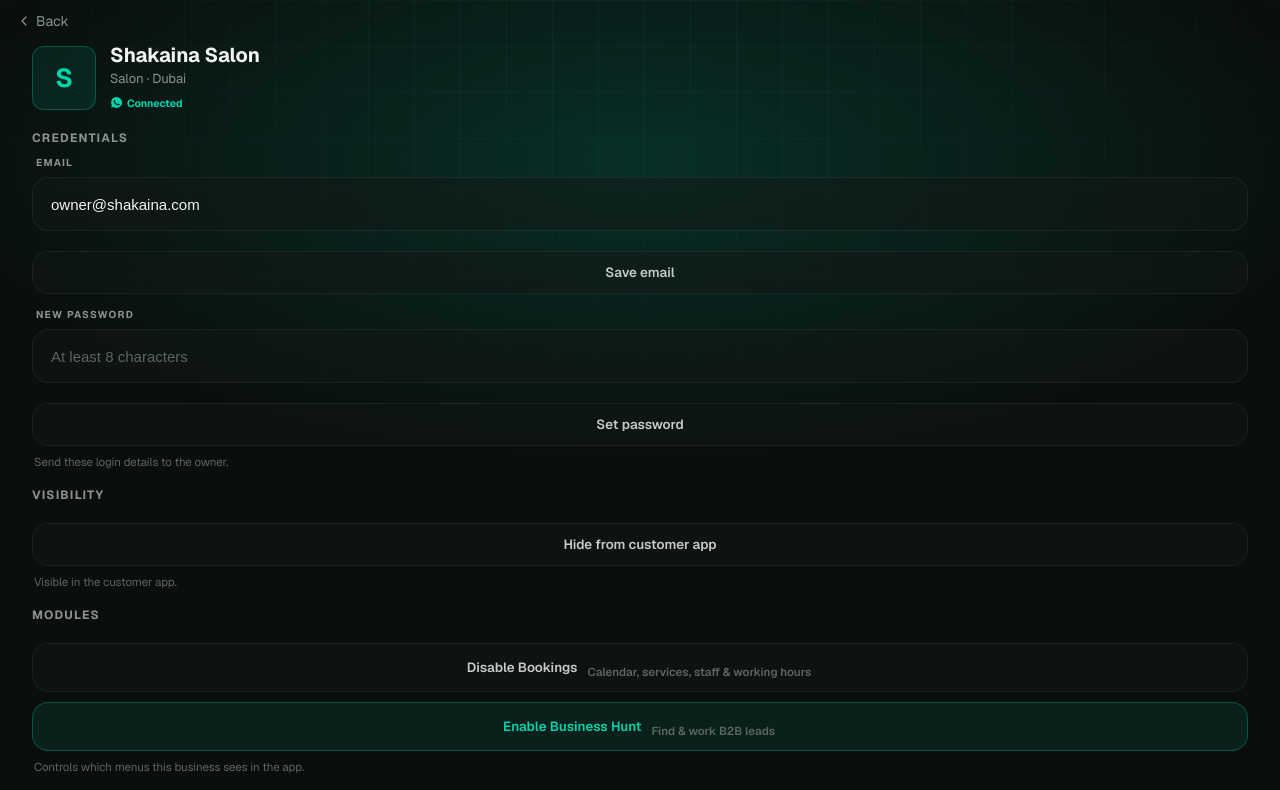
it: MasterShopDetail › sets a new password and shows it once for copying
In the field labelled "New password": {"x": 640, "y": 356} [49,330,1231,382], type "brand-new-pass"
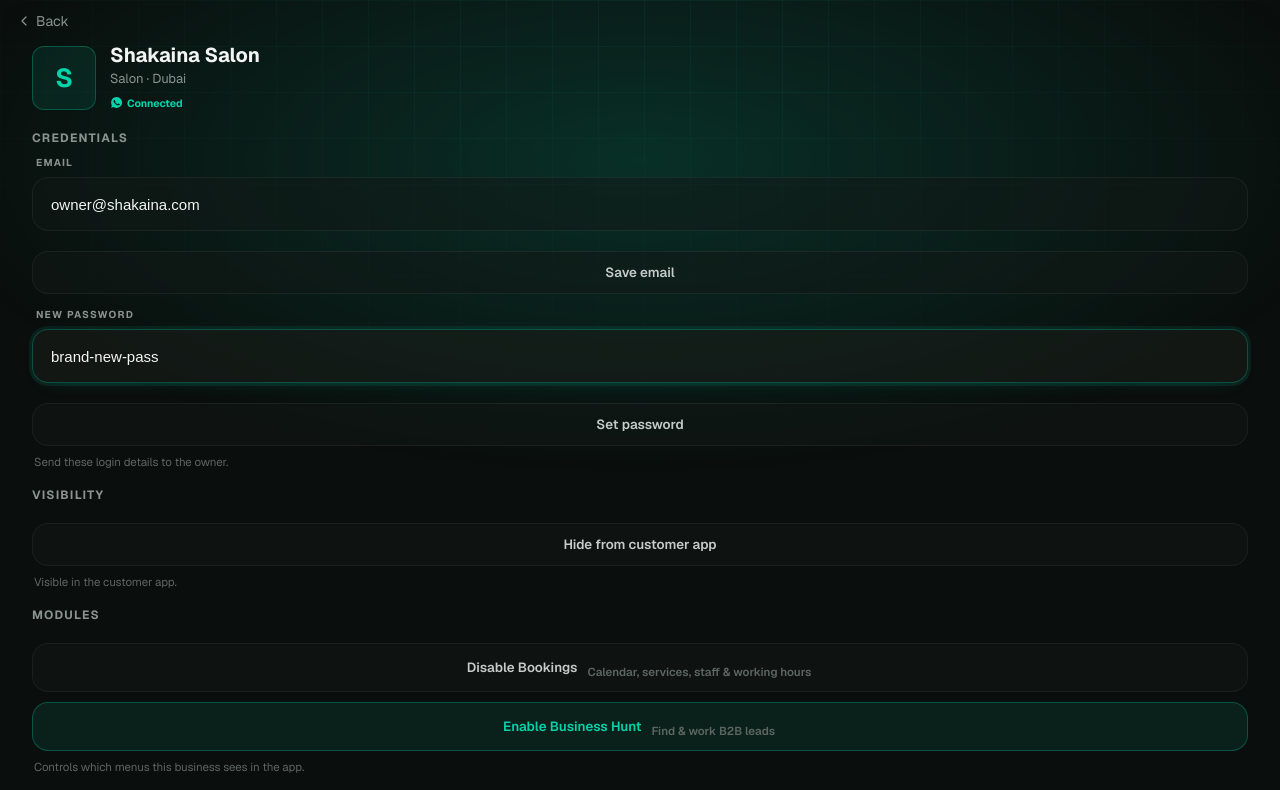
Click the button "Set password": {"x": 640, "y": 424} [32,403,1248,446]
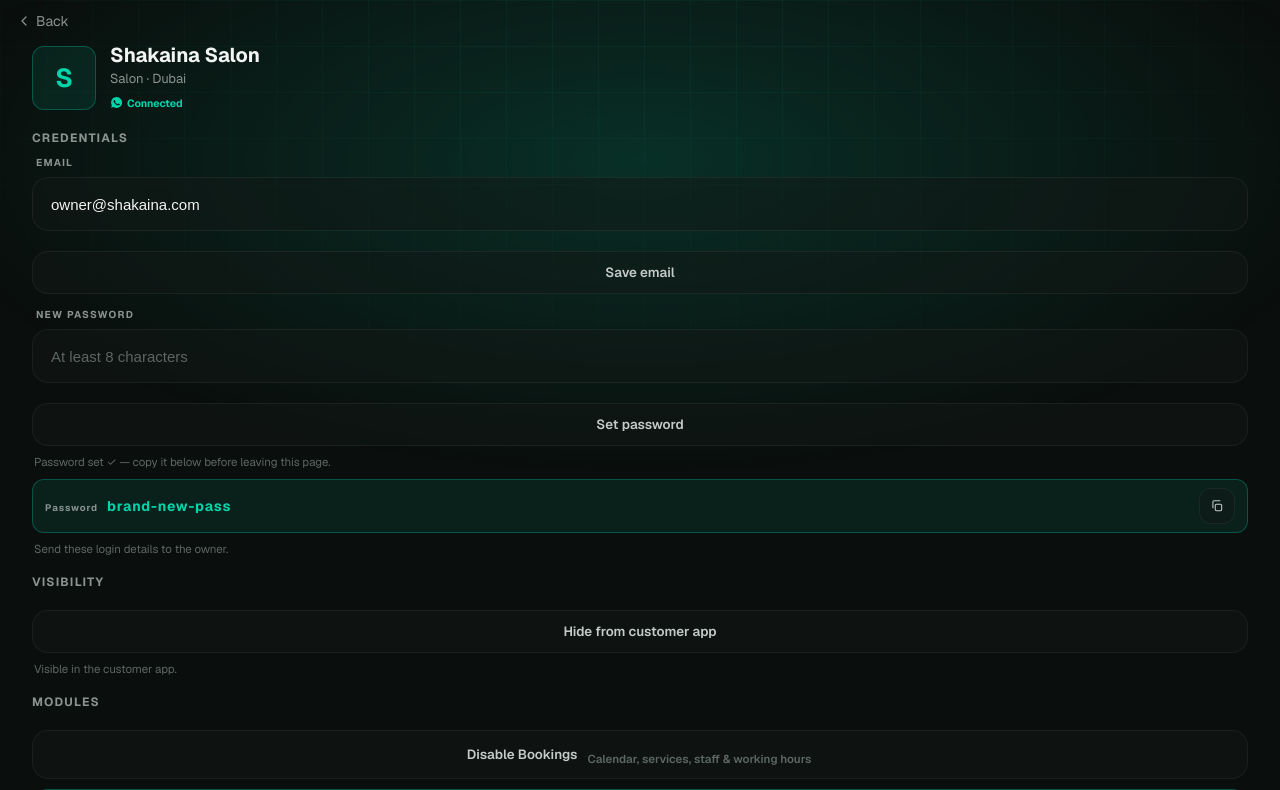
Now the text "brand-new-pass" is shown, box [107,497,231,515]
